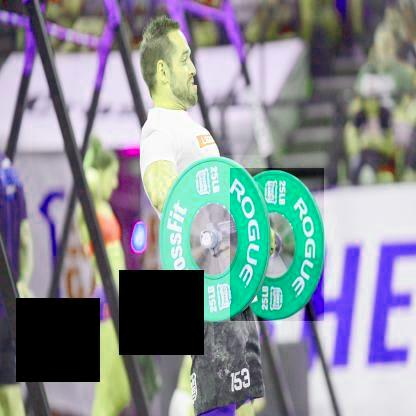barbell: (158, 156, 269, 322), (230, 169, 325, 321)
